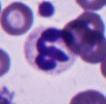N: (23, 34, 77, 75)
